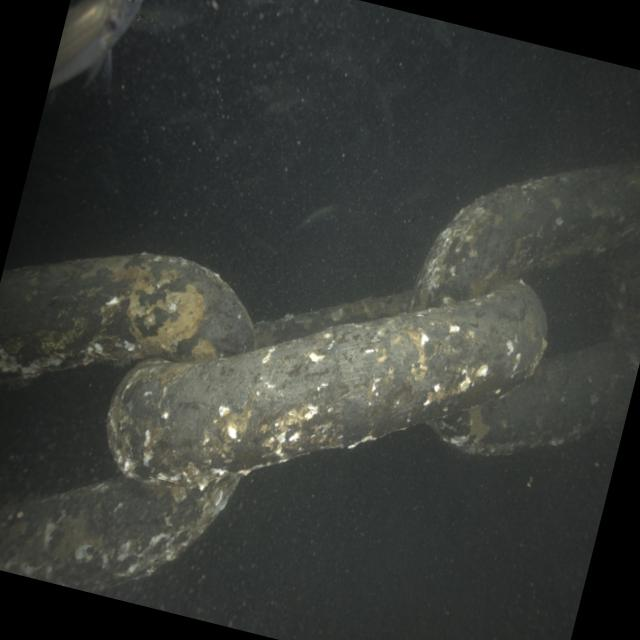ChainLink: (107, 282, 546, 484), (409, 162, 640, 310), (0, 253, 254, 384), (0, 474, 239, 591), (429, 339, 640, 454), (253, 292, 412, 349), (606, 244, 640, 339)
